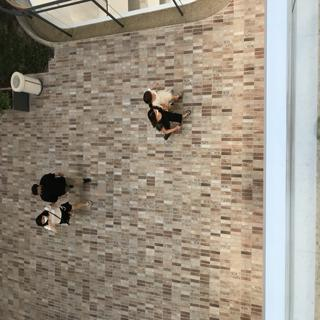person: (29, 207, 96, 241), (27, 174, 96, 207), (143, 109, 191, 138), (140, 86, 193, 110)
